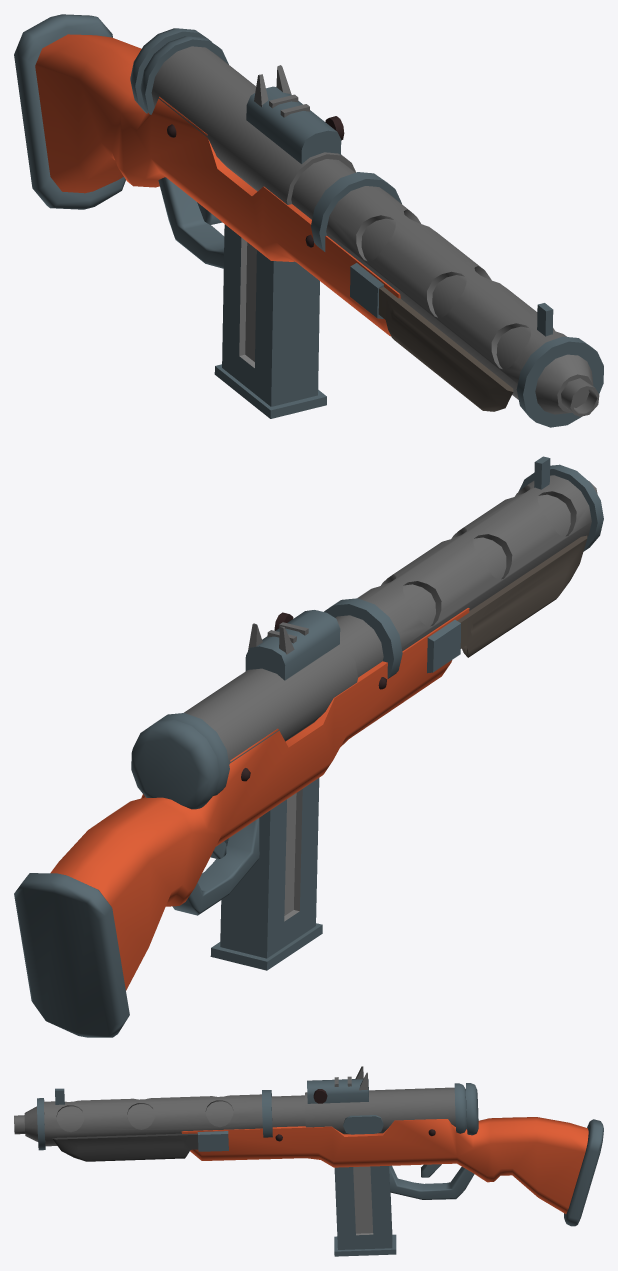
Rendered from SHOTGUN.fbx.
3 views of the same model, one above another, from view 1: azimuth 30°, elevation 25°; view 2: azimuth 150°, elevation 25°; view 3: azimuth 270°, elevation 25° (orthographic). The views are drawn at different scales.
Parts seen in each view (by area): view 1: SKS; view 2: SKS; view 3: SKS.
Boxes of the visible parts, bbox=[...] form: SKS: bbox=[14, 14, 603, 427]; SKS: bbox=[14, 456, 603, 1037]; SKS: bbox=[14, 1066, 603, 1256].
Bounding box in the file's own units: 0.2804 × 0.938 × 2.8.
Materials: 1 (1 with a texture image).
